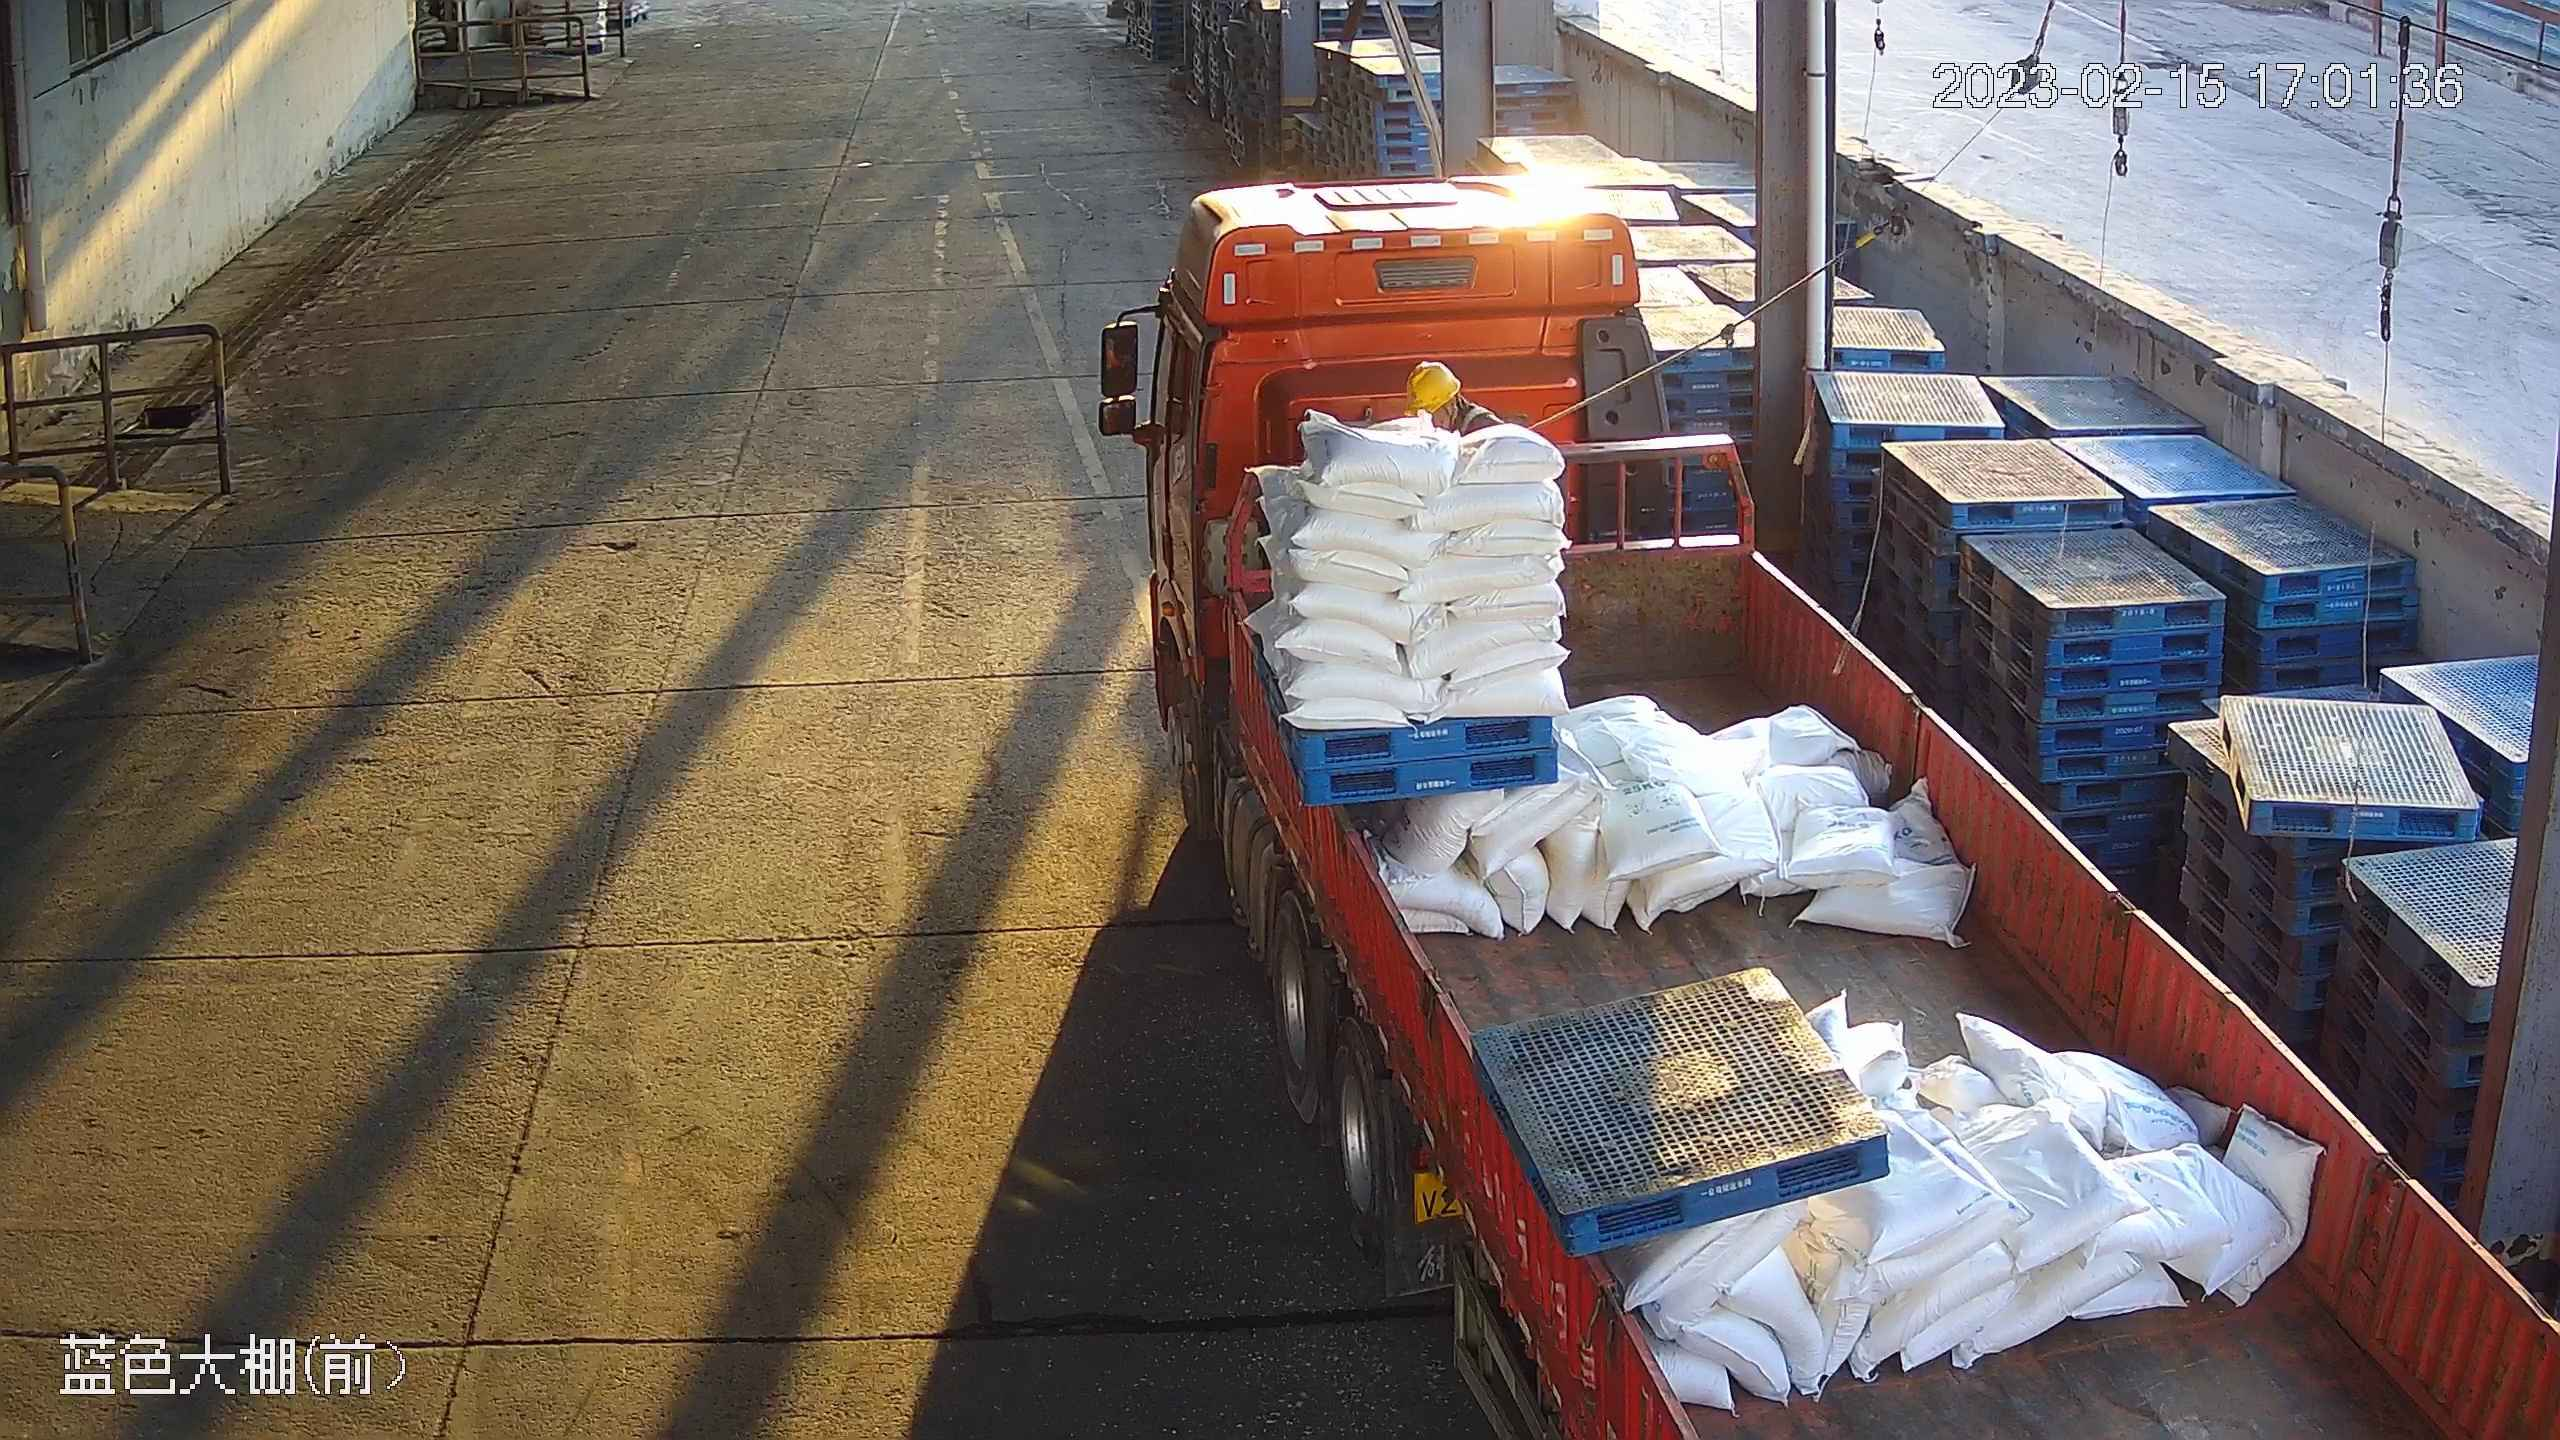helmet: (1405, 357, 1463, 417)
truck: (1094, 167, 2560, 1440)
